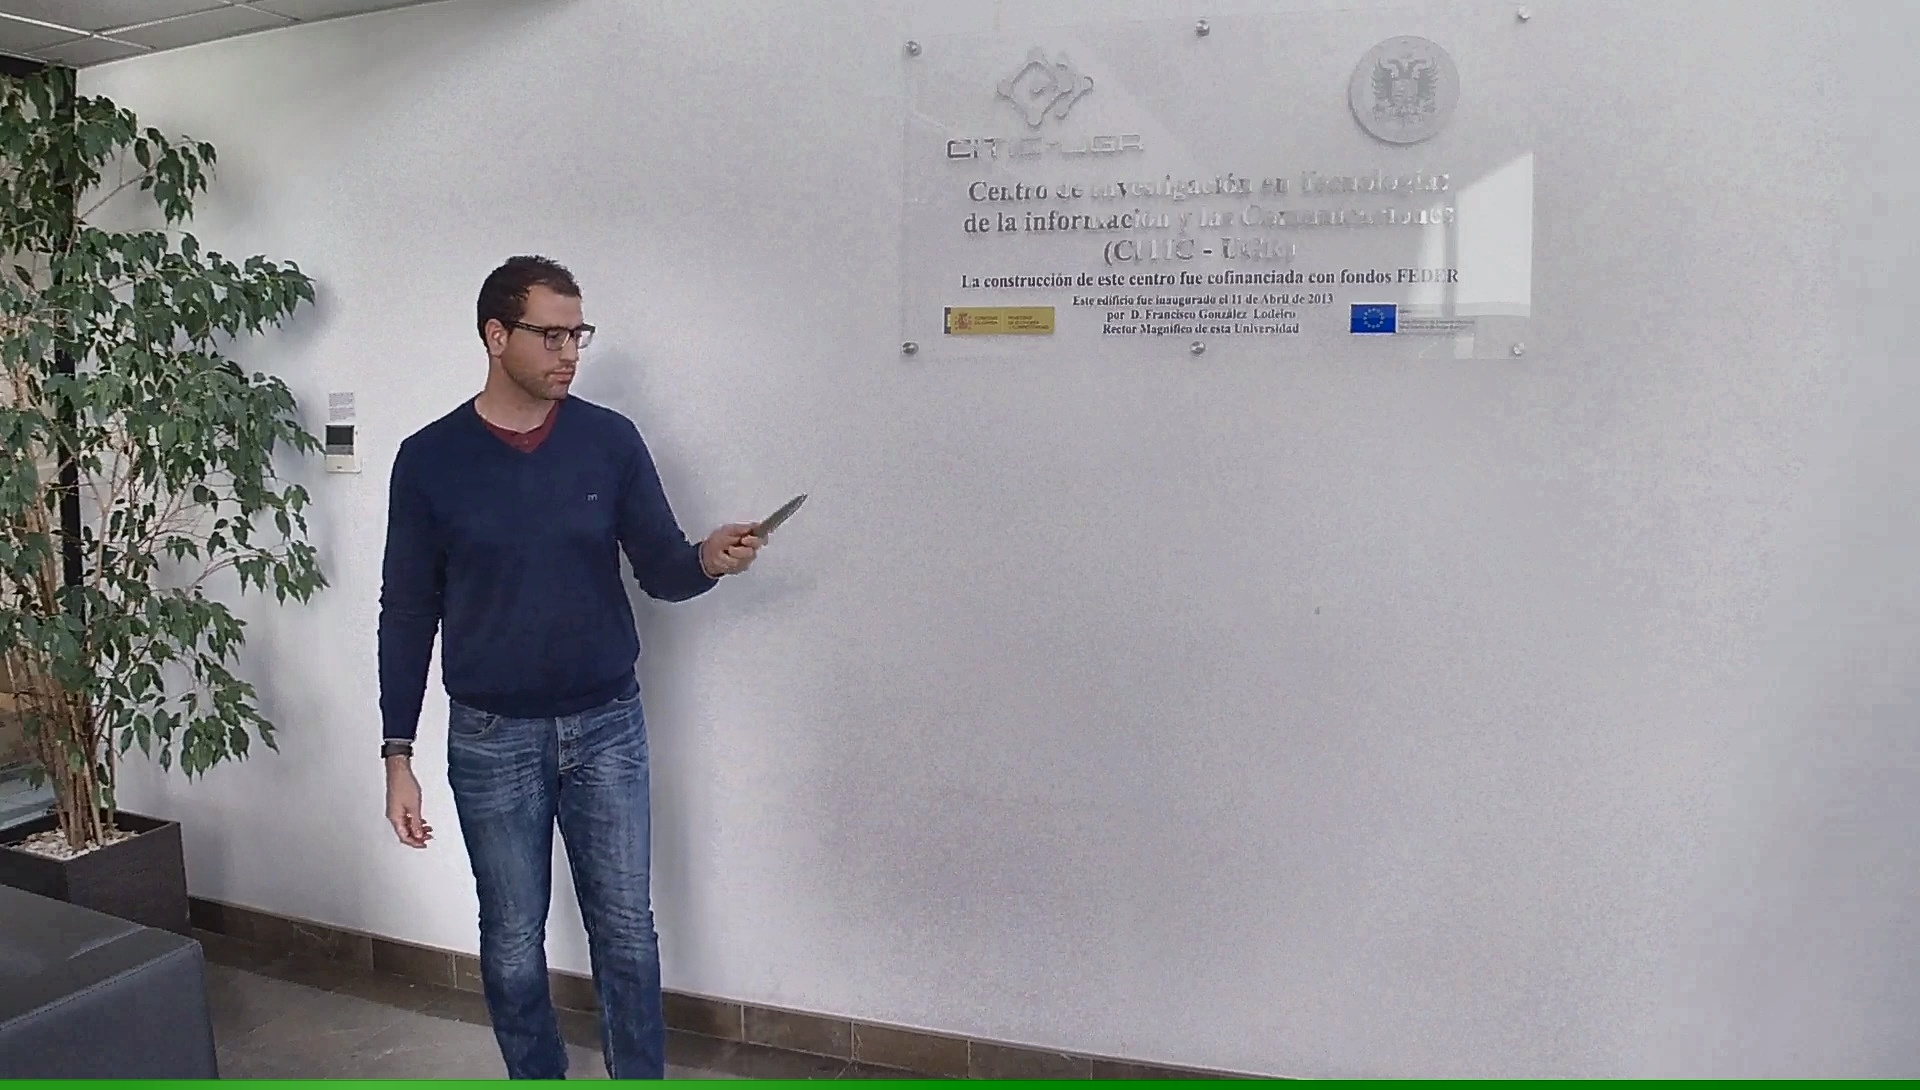knife: (715, 485, 818, 580)
